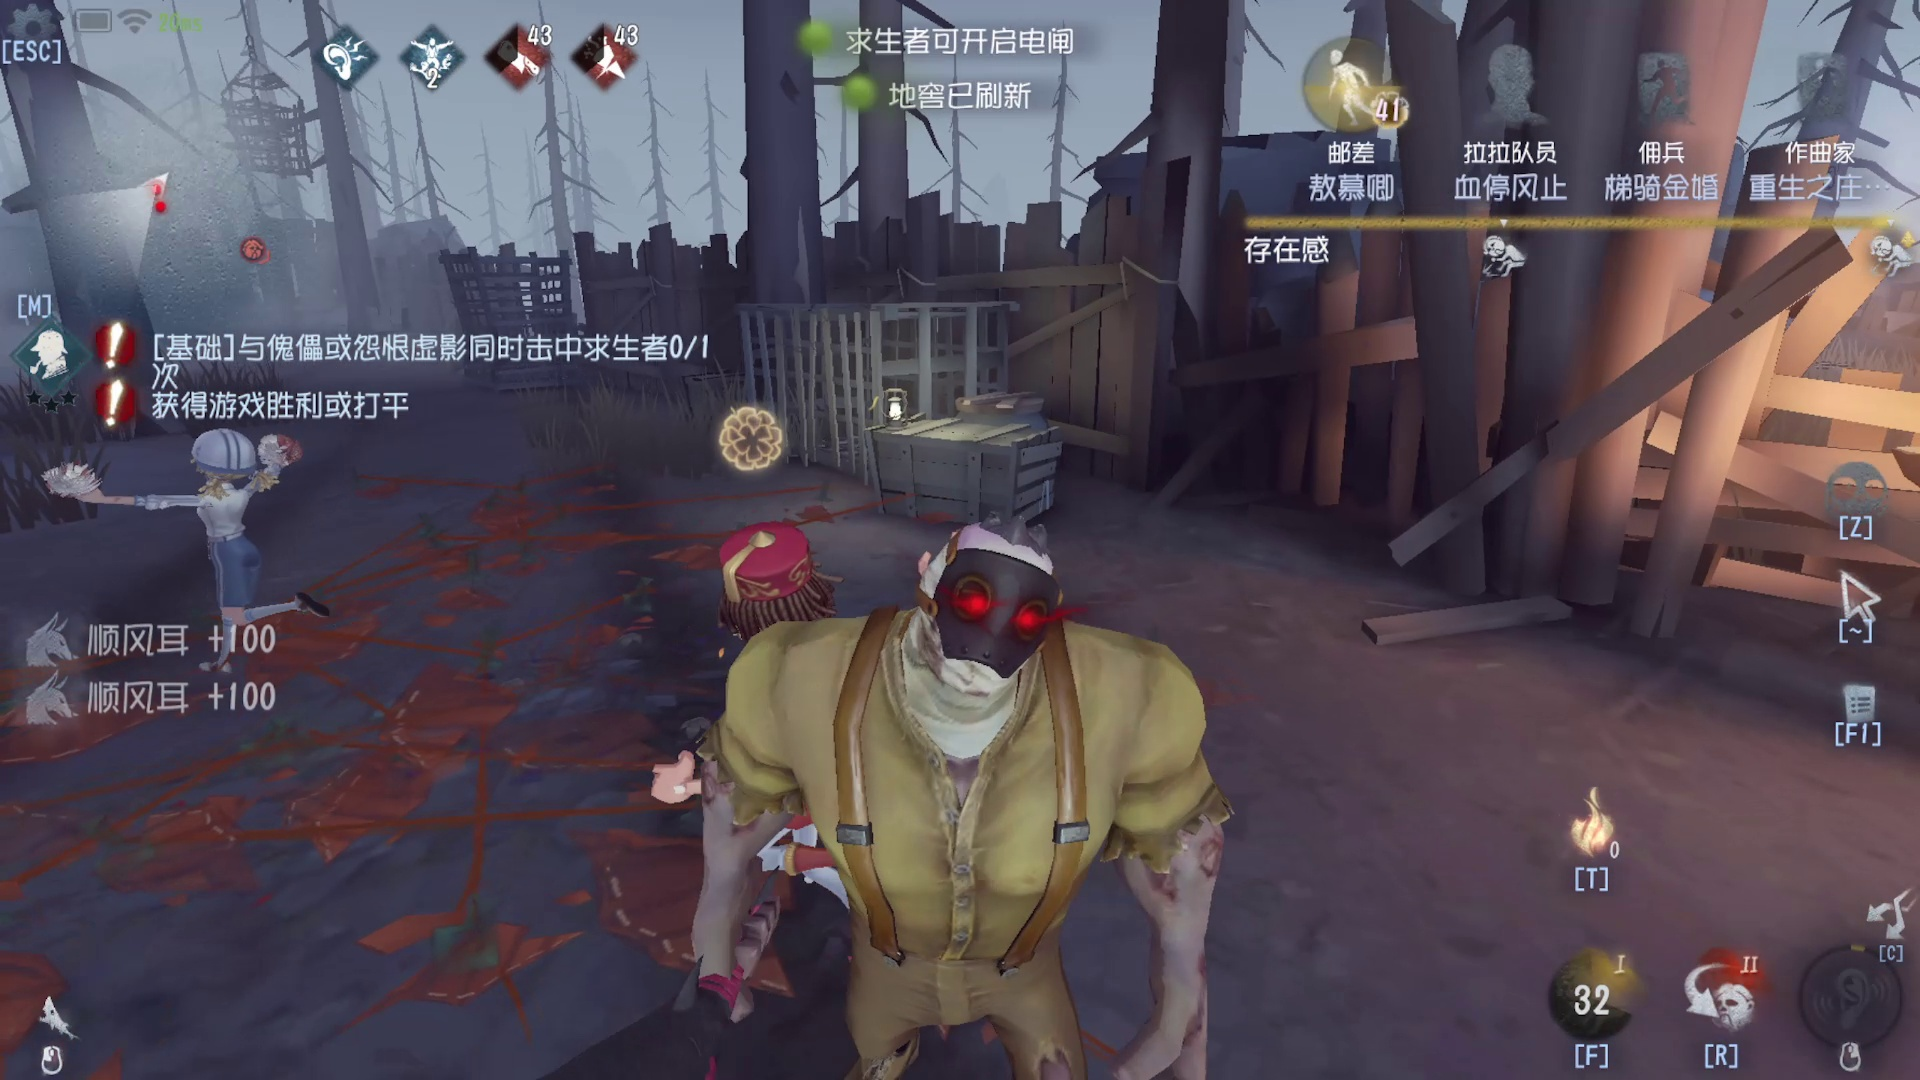脚印: (334, 477, 669, 963), (133, 436, 324, 698)
设置: (1, 1, 76, 80)
